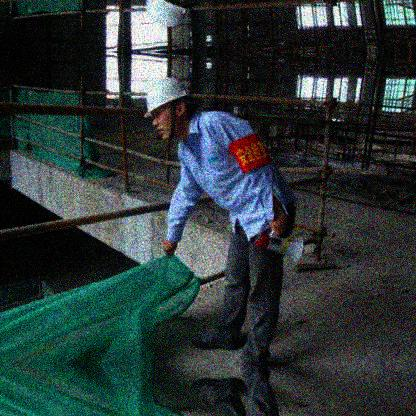helmet: (140, 76, 194, 139)
